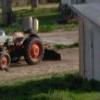Tractor: (4, 14, 61, 75)
